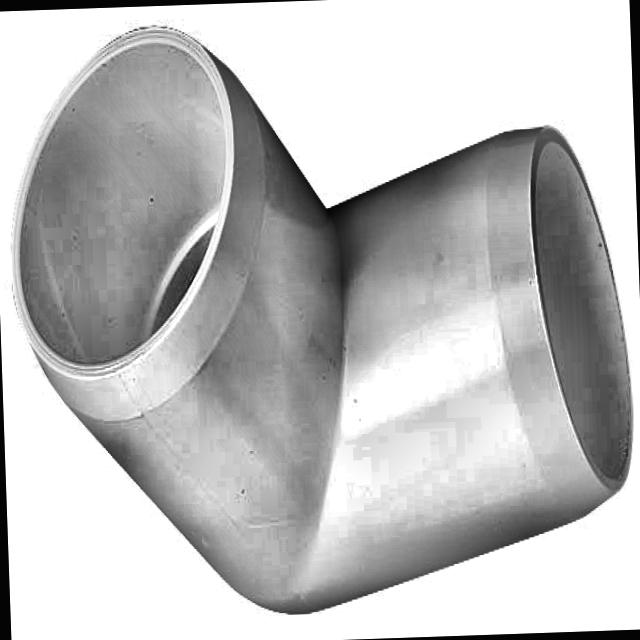ELBOW90: (4, 20, 636, 615)
